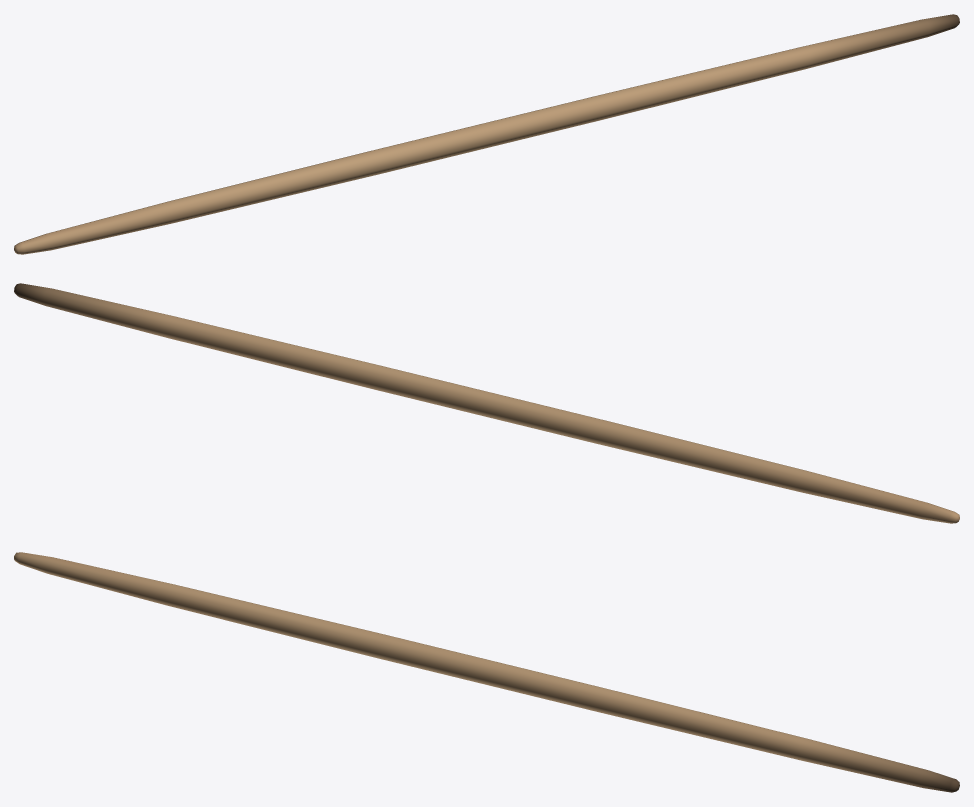
The model's file is spindle.glb.
The picture shows the model from 3 angles, top to bottom: view 1: azimuth 30°, elevation 25°; view 2: azimuth 150°, elevation 25°; view 3: azimuth 330°, elevation 25°; orthographic projection.
Visible parts, largest first — view 1: spindle; view 2: spindle; view 3: spindle.
Part boxes in pixels (x1,y1,x2,y2): spindle: [14, 14, 959, 254]; spindle: [14, 283, 959, 523]; spindle: [14, 552, 959, 792].
Size of the model in its own units: 0.507 by 0.0114 by 0.0117.
